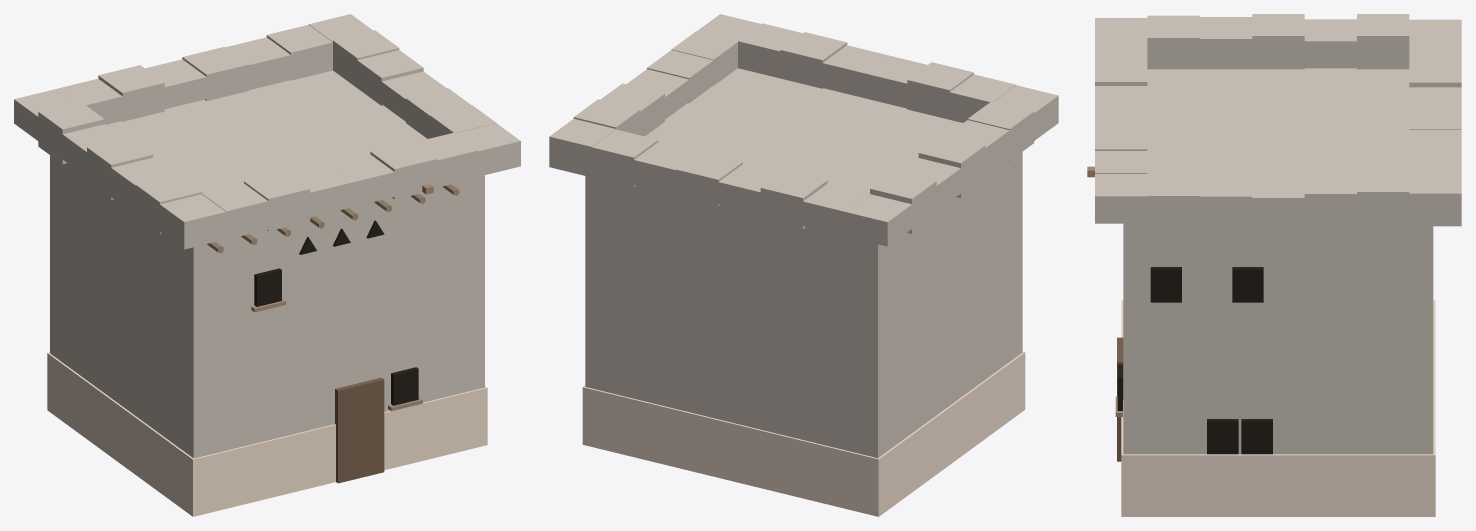
Rendered from SM_AlUlaHouse_A.fbx.
The picture shows the model from 3 angles, left to right: view 1: azimuth 30°, elevation 25°; view 2: azimuth 150°, elevation 25°; view 3: azimuth 270°, elevation 25°; orthographic projection. The views are drawn at different scales.
Parts seen in each view (by area): view 1: SM_AlUlaHouse_A; view 2: SM_AlUlaHouse_A; view 3: SM_AlUlaHouse_A.
Part boxes in pixels (left/top/right/bottom): SM_AlUlaHouse_A: left=14, top=14, right=520, bottom=516; SM_AlUlaHouse_A: left=549, top=14, right=1058, bottom=516; SM_AlUlaHouse_A: left=1087, top=14, right=1461, bottom=516.
Size of the model in its own units: 800 by 710 by 715.
